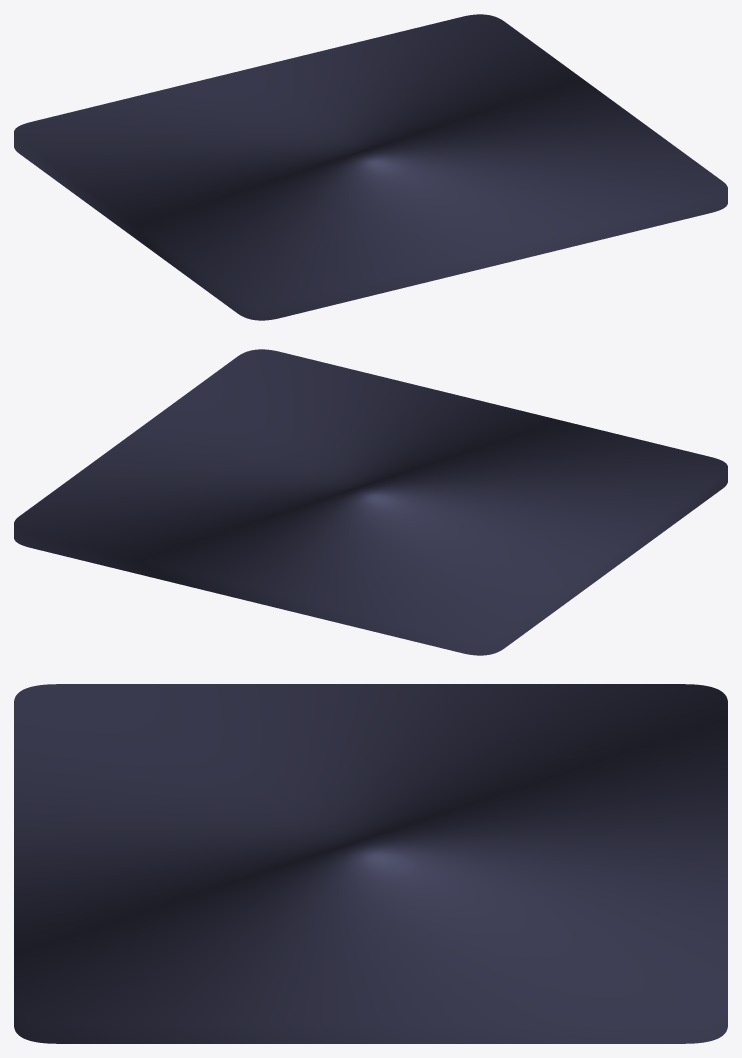
The model's file is Mouse_pad_one.glb.
The picture shows the model from 3 angles, top to bottom: view 1: azimuth 30°, elevation 25°; view 2: azimuth 150°, elevation 25°; view 3: azimuth 270°, elevation 25°; orthographic projection. The views are drawn at different scales.
Parts seen in each view (by area): view 1: Rectangle; view 2: Rectangle; view 3: Rectangle.
Part boxes in pixels (<box>): Rectangle: <box>14,14,727,320</box>; Rectangle: <box>14,349,727,655</box>; Rectangle: <box>14,684,727,1043</box>.
Bounding box in the file's own units: 180 × 5 × 160.
